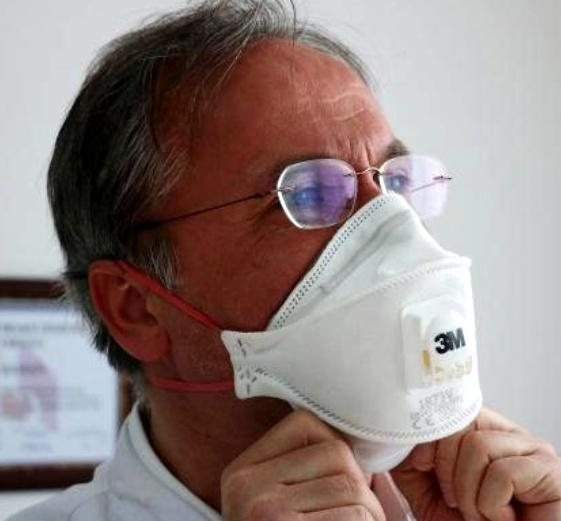OK: (228, 112, 454, 462)
